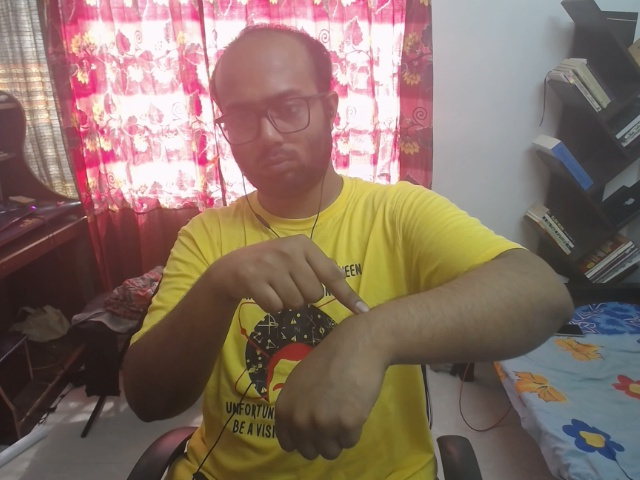time: (102, 212, 411, 467)
